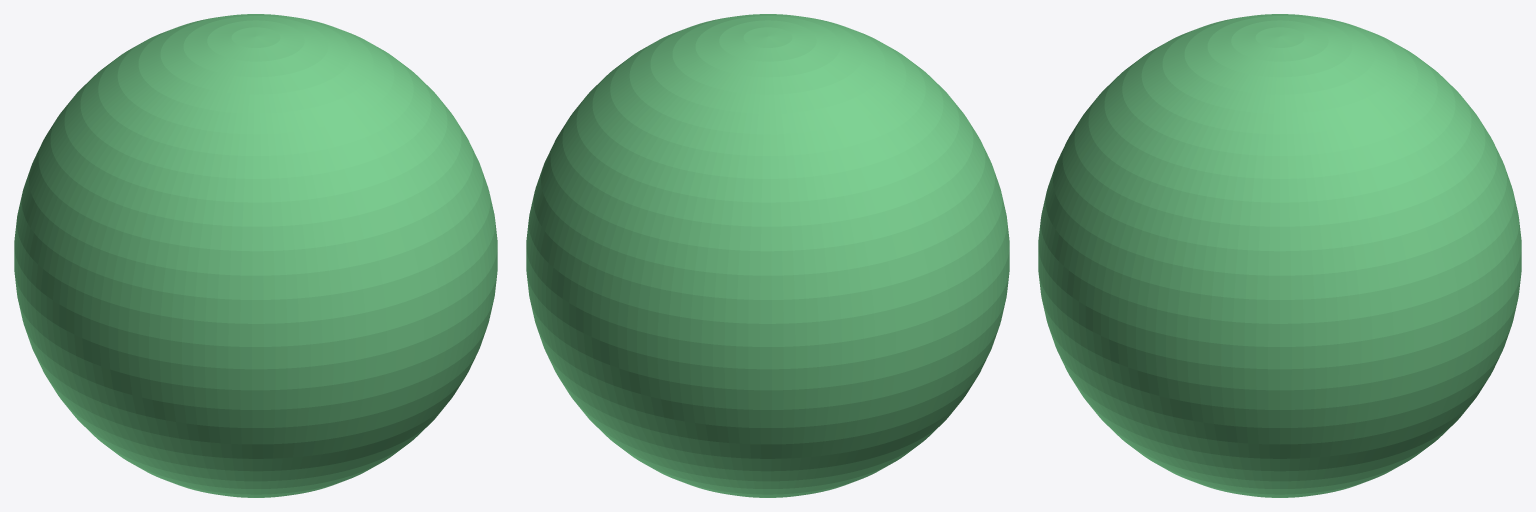
File: ball_green.glb
3 renders of one model, left to right at view 1: azimuth 30°, elevation 25°; view 2: azimuth 150°, elevation 25°; view 3: azimuth 270°, elevation 25°, orthographic.
Visible parts, largest first — view 1: geometry_0; view 2: geometry_0; view 3: geometry_0.
Part boxes in pixels (box(x1,y1,x2,y2)): geometry_0: box(14, 14, 497, 497); geometry_0: box(526, 14, 1009, 497); geometry_0: box(1038, 14, 1521, 497).
Size of the model in its own units: 0.2197 by 0.22 by 0.2197.
